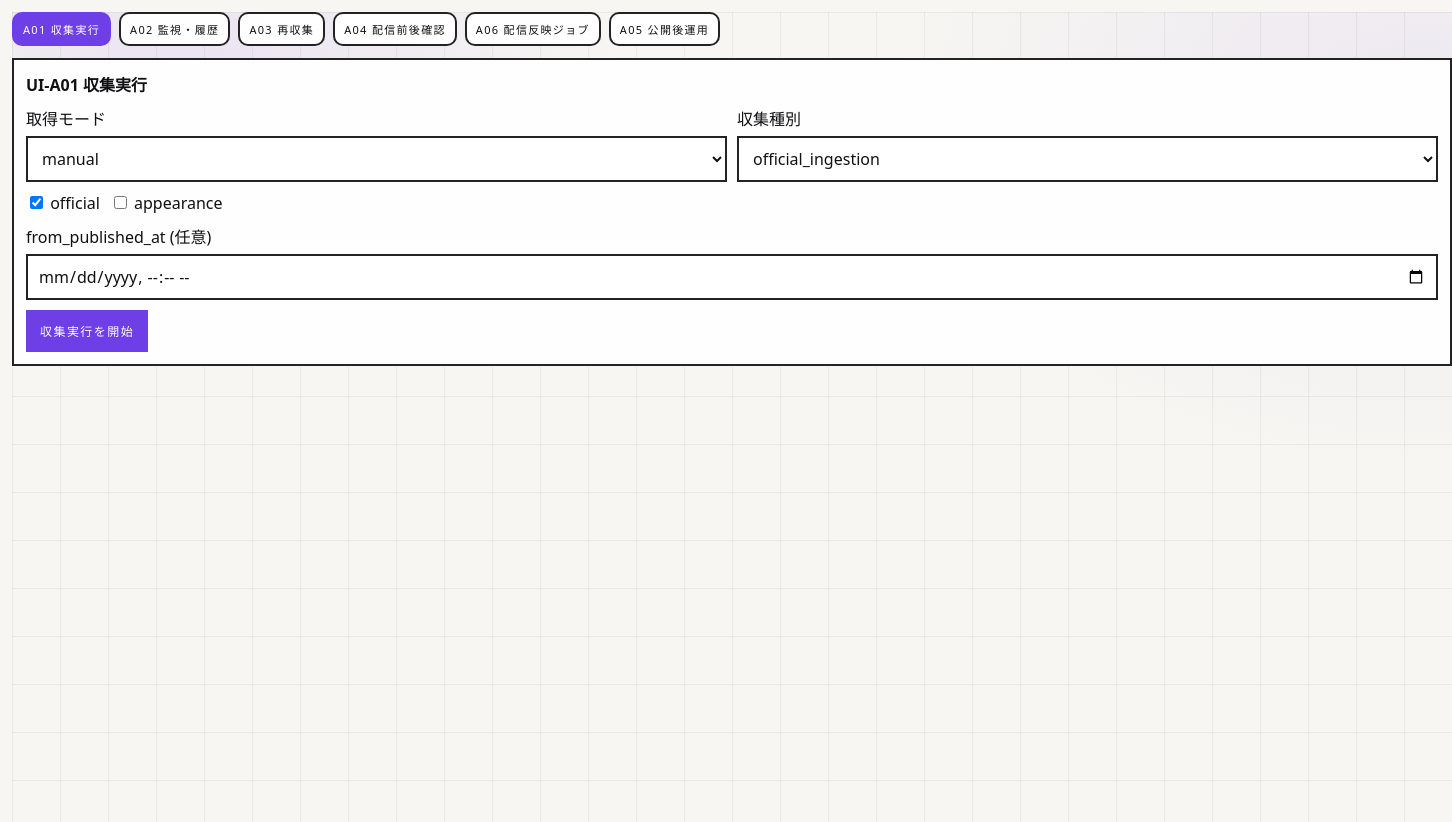
Test case: AdminPanel › [UT-PW-FE-UI-A01-C001] A01 starts ingestion and shows accepted run id
The image size is (1452, 822).
Click the button "収集実行を開始": (87, 331) [26, 310, 148, 352]
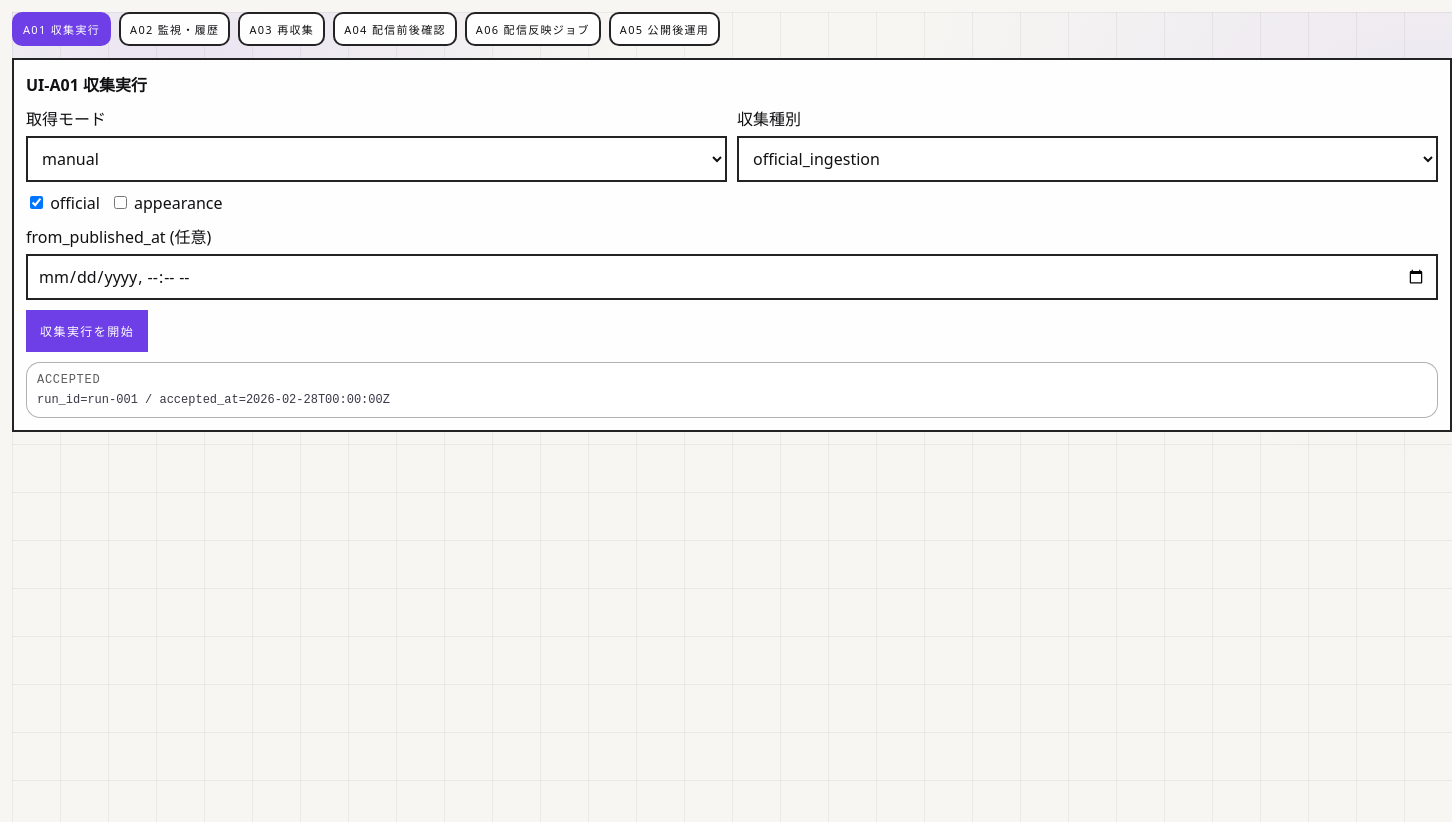
Expected: the text "run_id=run-001 / accepted_at=2026-02-28T00:00:00Z" is shown, [37, 393, 390, 407]
